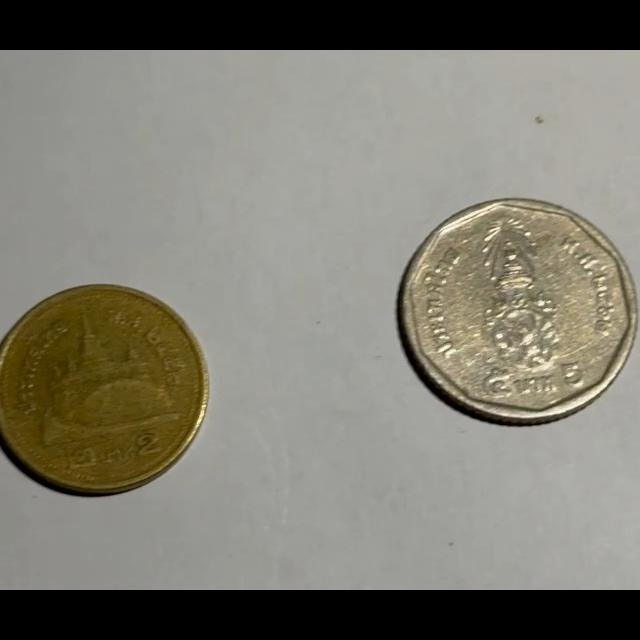2-baht: (0, 284, 206, 493)
5-baht: (397, 197, 636, 424)
